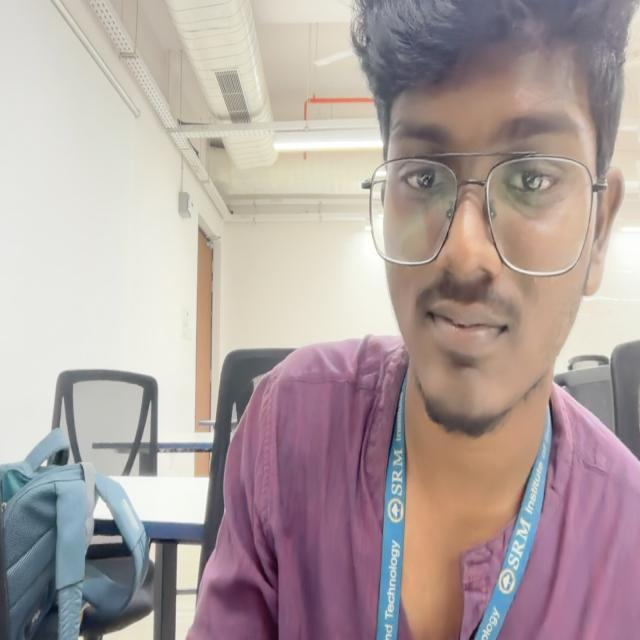ravindra: (350, 3, 628, 437)
